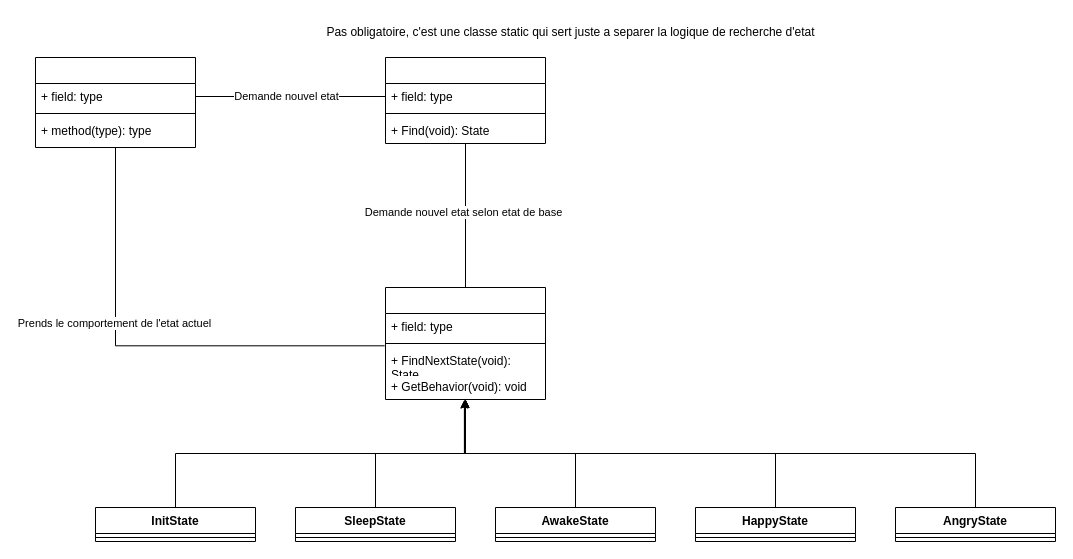
This 1073x559 diagram has some shape labels left out. Each missing label, with the box of its shape:
(abstract) State: (384, 286, 546, 400)
AI: (34, 56, 196, 148)
StateFinder: (384, 56, 546, 144)
